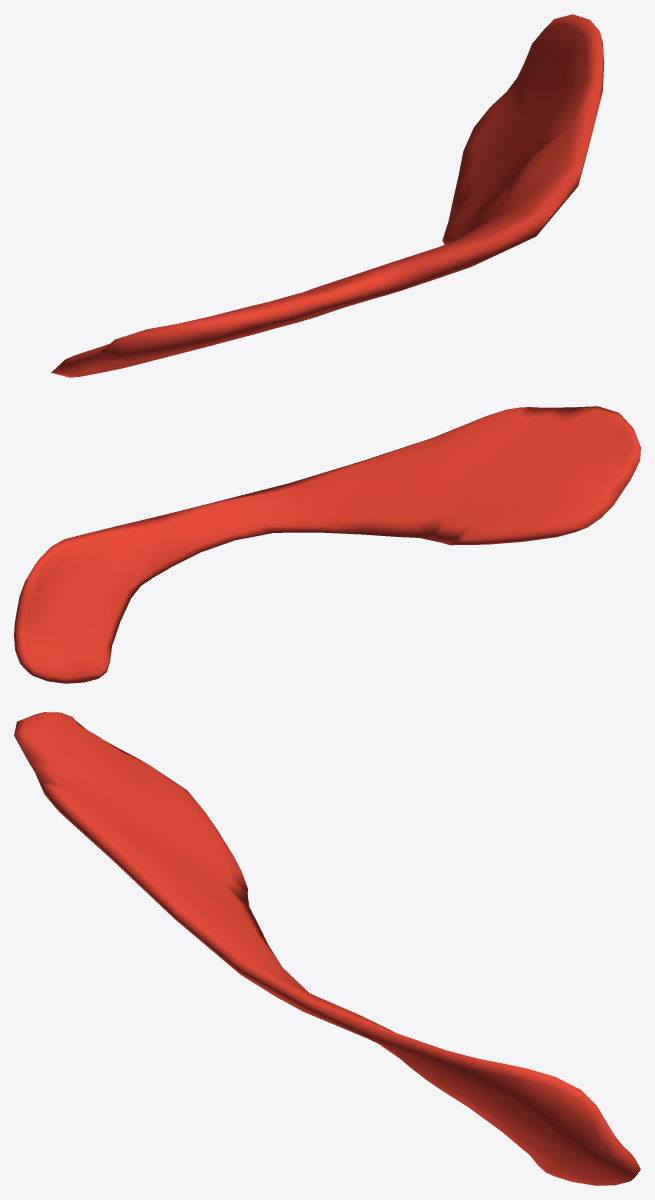
File: Abductor_hallucis_medial_calcaneal_tuberosity_left.glb
The picture shows the model from 3 angles, top to bottom: view 1: azimuth 30°, elevation 25°; view 2: azimuth 150°, elevation 25°; view 3: azimuth 270°, elevation 25°; orthographic projection. The views are drawn at different scales.
Visible parts, largest first — view 1: Abductor_hallucis_on_medial_process_of_calcaneal_tuberosity.; view 2: Abductor_hallucis_on_medial_process_of_calcaneal_tuberosity.; view 3: Abductor_hallucis_on_medial_process_of_calcaneal_tuberosity..
Part boxes in pixels (x1=…): Abductor_hallucis_on_medial_process_of_calcaneal_tuberosity.: x1=51, y1=14, x2=604, y2=377; Abductor_hallucis_on_medial_process_of_calcaneal_tuberosity.: x1=14, y1=406, x2=640, y2=683; Abductor_hallucis_on_medial_process_of_calcaneal_tuberosity.: x1=14, y1=712, x2=640, y2=1185.
Size of the model in its own units: 0.0168 by 0.00733 by 0.0164.
